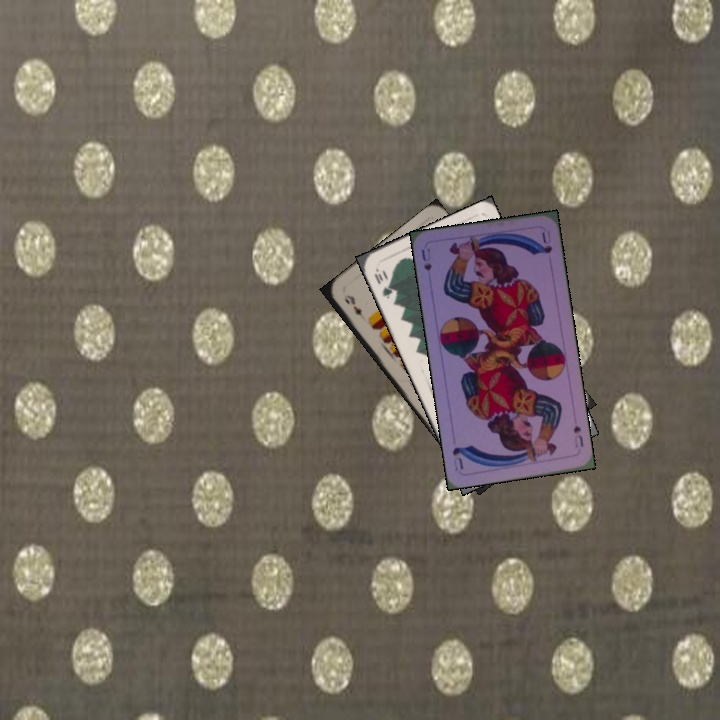E9: (340, 291, 365, 318)
G10: (370, 264, 396, 302)
SU: (417, 244, 434, 274), (569, 422, 586, 450)
